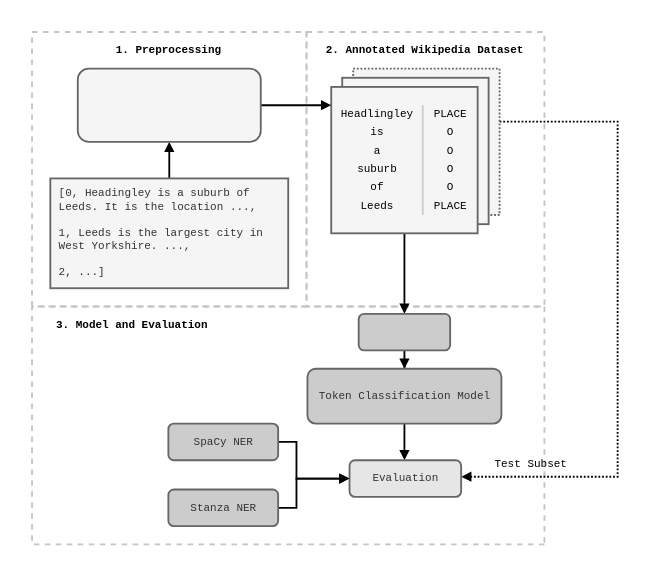
This 659x576 diagram has some shape labels left out. Each missing label, with the centre of its shape:
"1. Regex cleaning 2. Sentence Segmentation 3. Tokenization 4. Annotation" belongs at pixel 168 104.
"Embedding" belongs at pixel 403 331.
